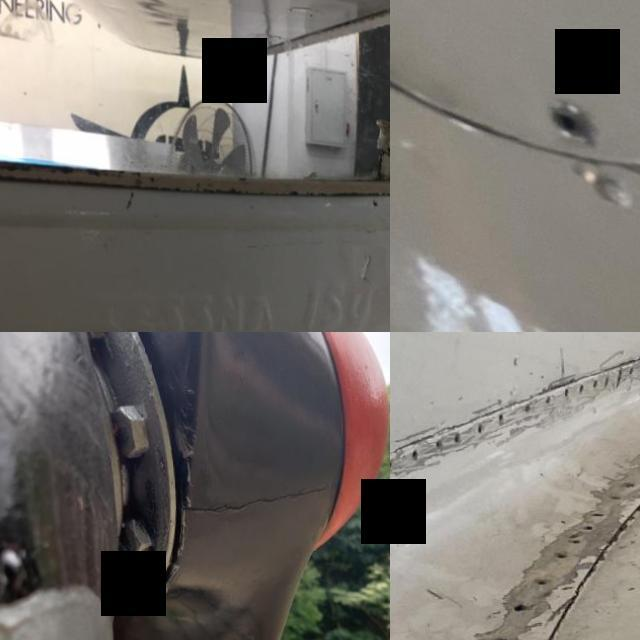Crack: (4, 169, 390, 207), (179, 463, 338, 534), (349, 244, 384, 292)
Missing_Fastener: (536, 93, 610, 141), (430, 439, 443, 452), (404, 448, 418, 460), (506, 602, 522, 612), (448, 432, 460, 443), (472, 422, 483, 434), (528, 576, 542, 585), (550, 550, 562, 560), (493, 412, 502, 422), (487, 636, 501, 640)
